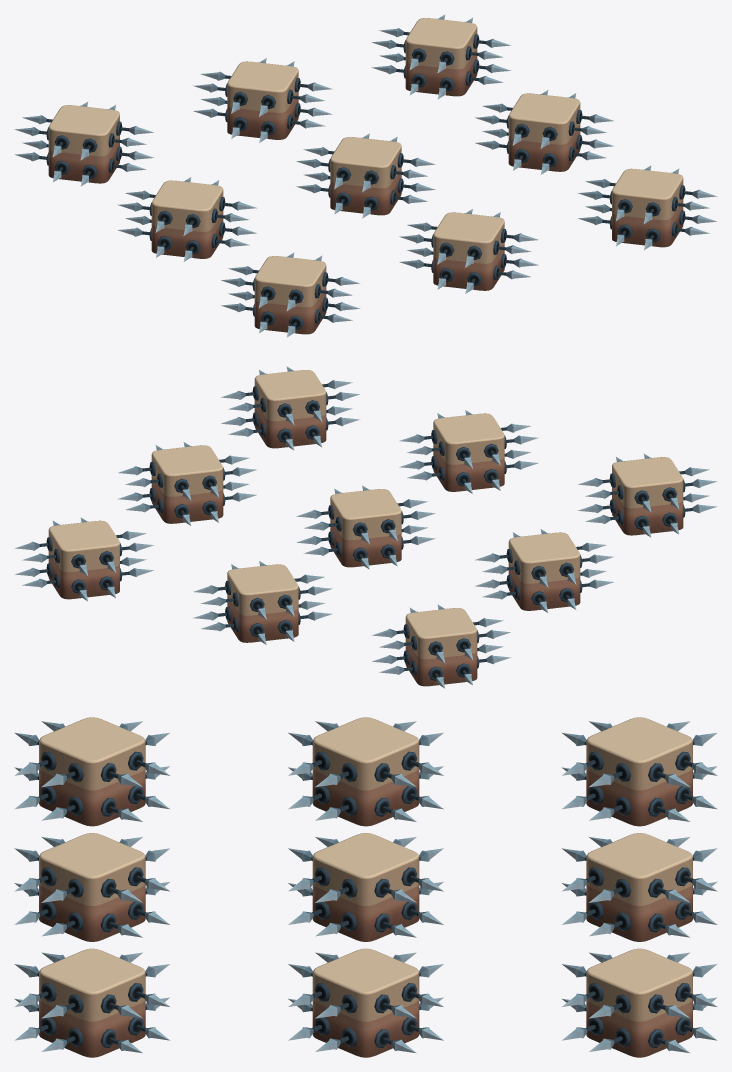
File: Props.fbx
The picture shows the model from 3 angles, top to bottom: view 1: azimuth 30°, elevation 25°; view 2: azimuth 150°, elevation 25°; view 3: azimuth 270°, elevation 25°; orthographic projection. The views are drawn at different scales.
Parts seen in each view (by area): view 1: Box01 (×9); view 2: Box01 (×9); view 3: Box01 (×9).
Part boxes in pixels (x1,y1,x2,y2): Box01 (×9): (48,18,683,334); Box01 (×9): (48,370,683,686); Box01 (×9): (39,717,692,1057).
Size of the model in its own units: 25.73 by 2.62 by 25.73.
